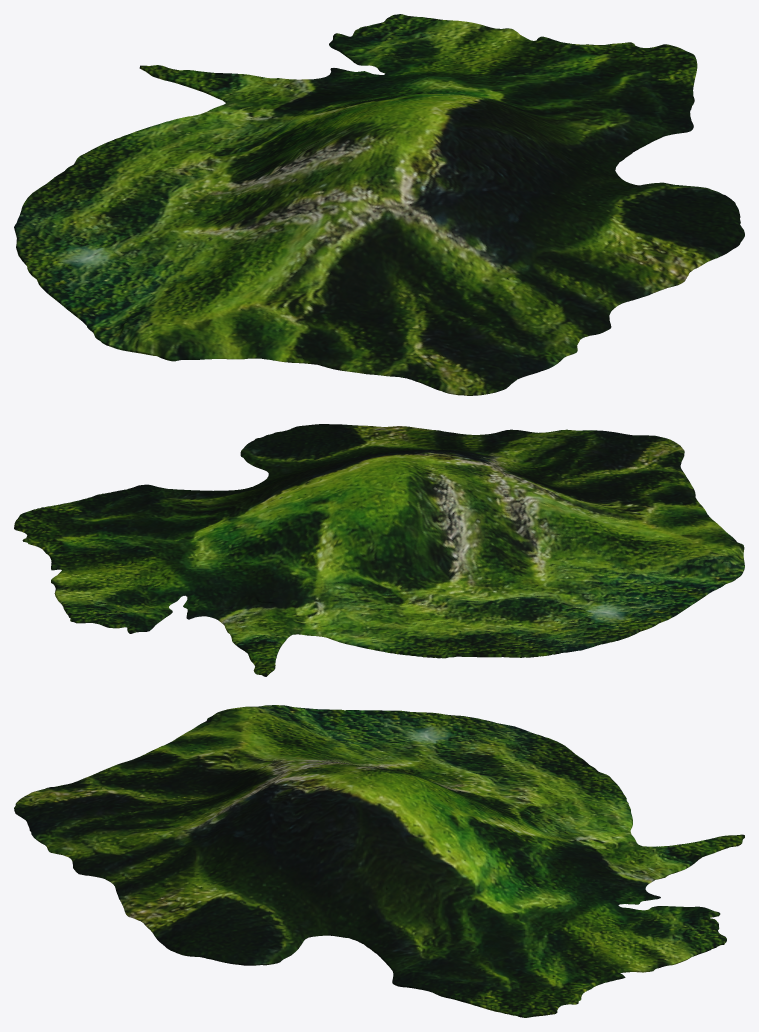
File: observatory-environment.glb
3 renders of one model, top to bottom at view 1: azimuth 30°, elevation 25°; view 2: azimuth 150°, elevation 25°; view 3: azimuth 270°, elevation 25°, orthographic. The views are drawn at different scales.
Visible parts, largest first — view 1: temp_mesh.ply; view 2: temp_mesh.ply; view 3: temp_mesh.ply.
Part boxes in pixels (<box>): temp_mesh.ply: <box>14,14,744,395</box>; temp_mesh.ply: <box>14,424,744,676</box>; temp_mesh.ply: <box>14,705,744,1017</box>.
Bounding box in the file's own units: 197 × 24.15 × 195.
1 material, 1 textured.
